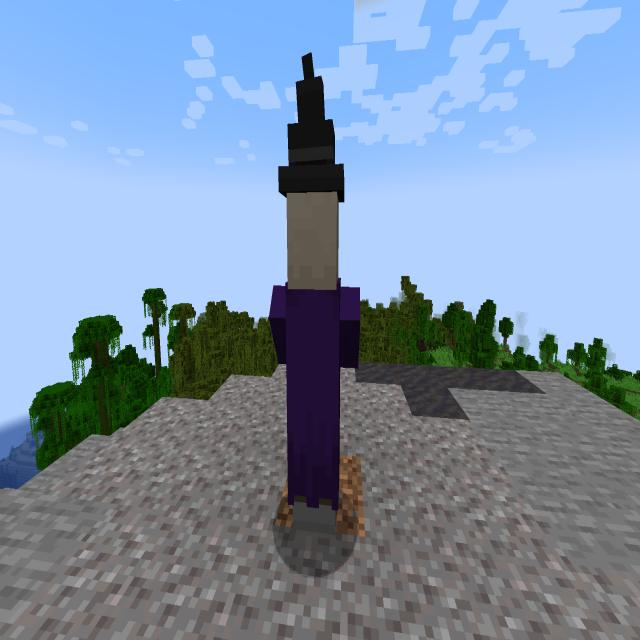Witch: (259, 41, 372, 552)
